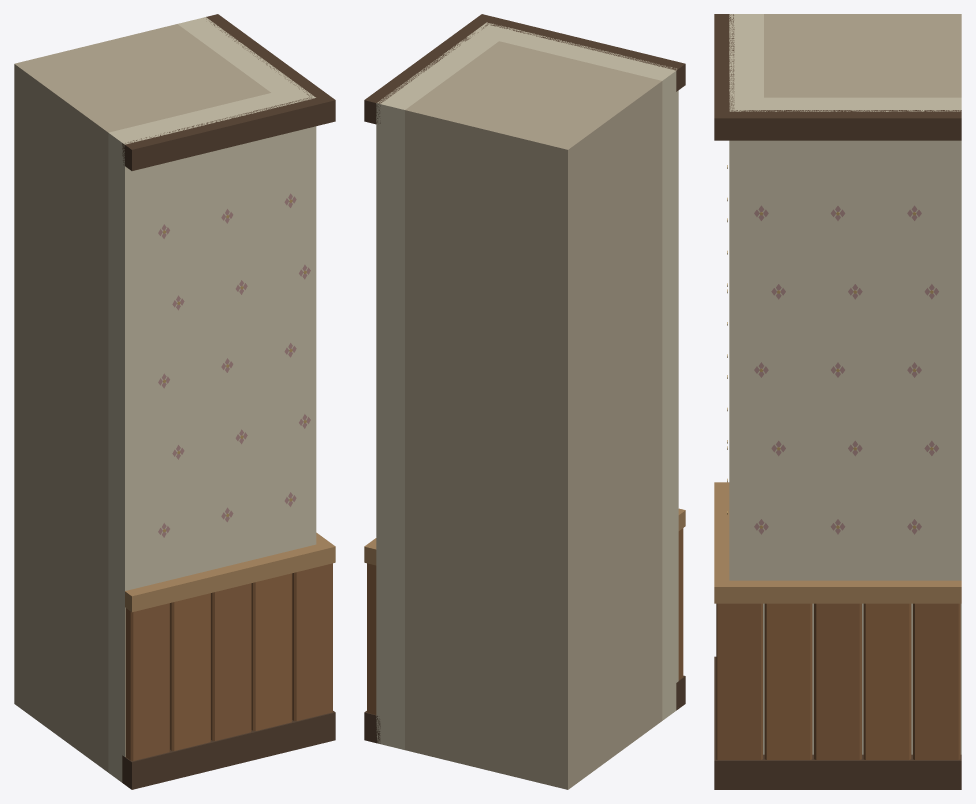
The model's file is wall_home_corner.glb.
3 renders of one model, left to right at view 1: azimuth 30°, elevation 25°; view 2: azimuth 150°, elevation 25°; view 3: azimuth 270°, elevation 25°, orthographic. The views are drawn at different scales.
Parts seen in each view (by area): view 1: face_front, geometry, face_right; view 2: geometry, face_right, face_front; view 3: face_right, geometry, face_front.
Part boxes in pixels (x1,y1,x2,y2): face_front: [108, 93, 335, 789]; geometry: [14, 24, 270, 772]; face_right: [178, 14, 335, 712]; geometry: [405, 41, 662, 789]; face_right: [364, 14, 498, 749]; face_front: [482, 14, 685, 720]; face_right: [714, 97, 961, 789]; geometry: [764, 14, 961, 97]; face_front: [714, 14, 763, 760].
Bounding box in the file's own units: 1 × 3 × 1.
